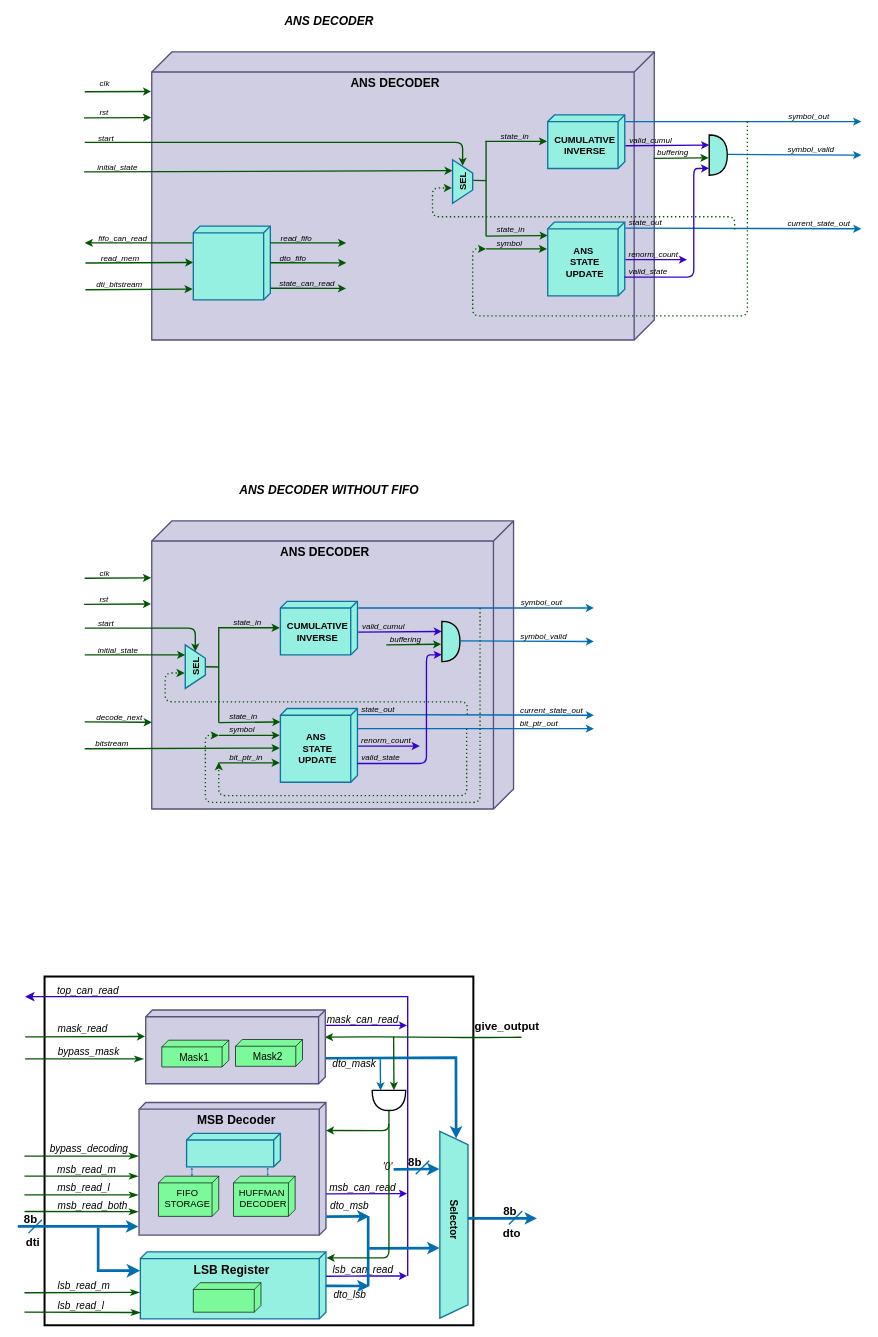
This 878x1337 diagram has some shape labels left out. Each missing label, with the centre of its shape:
"DECODING COORDINATOR" belongs at point (233, 1149).
"FIFO" belongs at point (231, 262).
"Mask Decoder" belongs at point (235, 1046).
"REGISTER" belongs at point (227, 1297).
